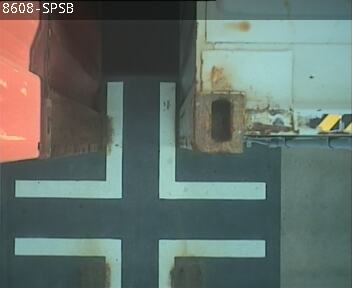groundmarker_1: (15, 83, 266, 198), (14, 236, 263, 288)
